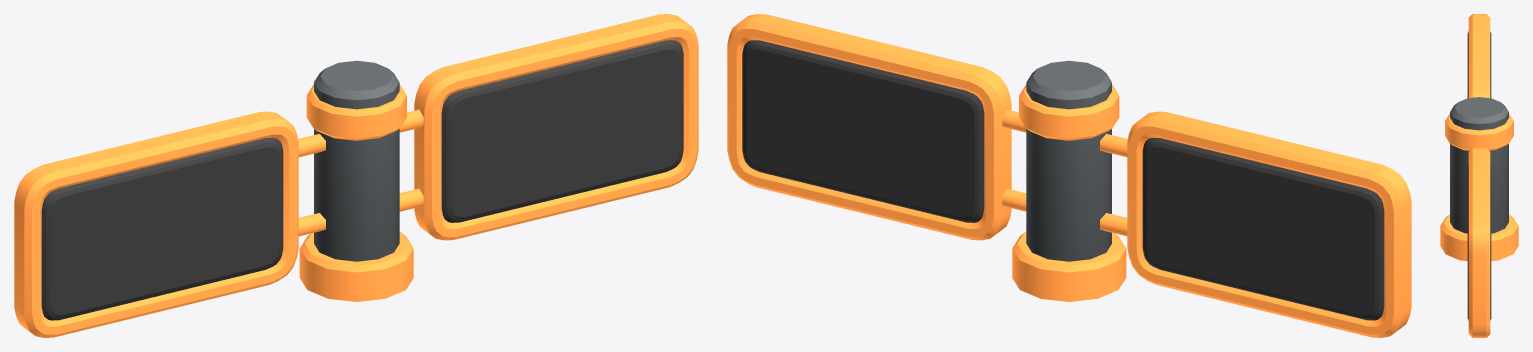
File: obstacle_6_001.glb
3 renders of one model, left to right at view 1: azimuth 30°, elevation 25°; view 2: azimuth 150°, elevation 25°; view 3: azimuth 270°, elevation 25°, orthographic. The views are drawn at different scales.
Parts seen in each view (by area): view 1: obstacle_6_001; view 2: obstacle_6_001; view 3: obstacle_6_001.
Part boxes in pixels (x1,y1,x2,y2): obstacle_6_001: (14,14,698,337); obstacle_6_001: (727,14,1411,337); obstacle_6_001: (1440,14,1518,337).
Bounding box in the file's own units: 4.38 × 1.25 × 0.6417.
Materials: 2 (2 with a texture image).
